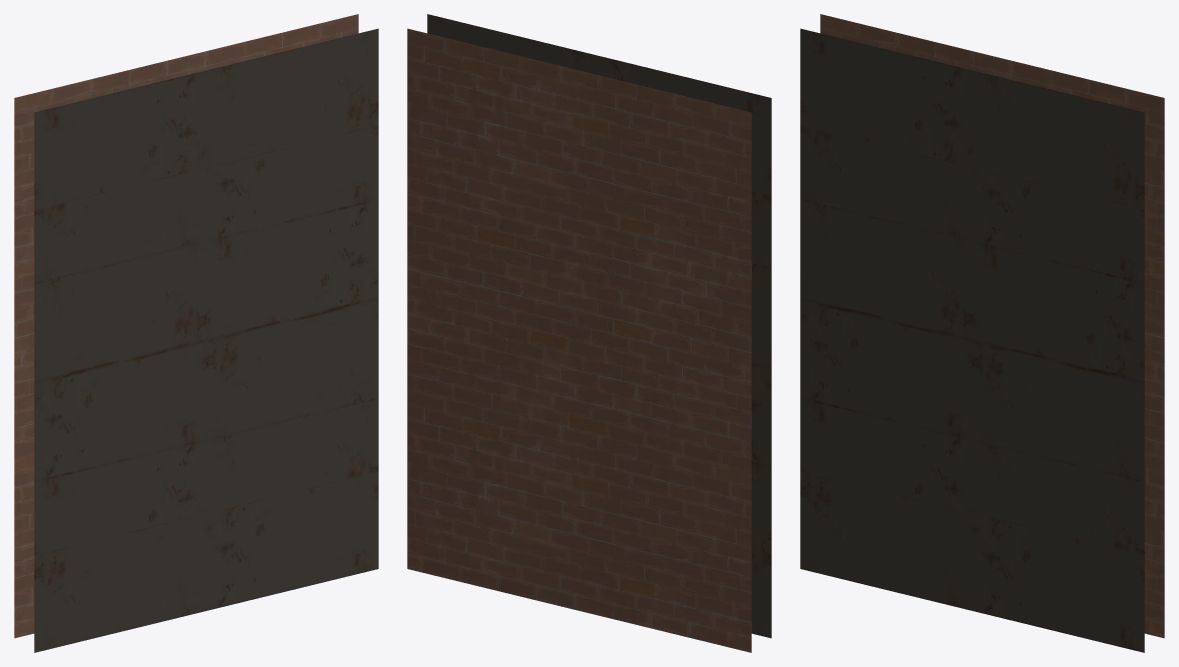
The model's file is Metal_Plain_3.glb.
The picture shows the model from 3 angles, left to right: view 1: azimuth 30°, elevation 25°; view 2: azimuth 150°, elevation 25°; view 3: azimuth 330°, elevation 25°; orthographic projection.
Parts seen in each view (by area): view 1: Metal_Plain_3; view 2: Metal_Plain_3; view 3: Metal_Plain_3.
Boxes of the visible parts, bbox=[...] form: Metal_Plain_3: bbox=[14, 14, 378, 652]; Metal_Plain_3: bbox=[407, 14, 771, 652]; Metal_Plain_3: bbox=[800, 14, 1164, 652].
Size of the model in its own units: 2 by 3 by 0.2.
Materials: 2 (2 with a texture image).
